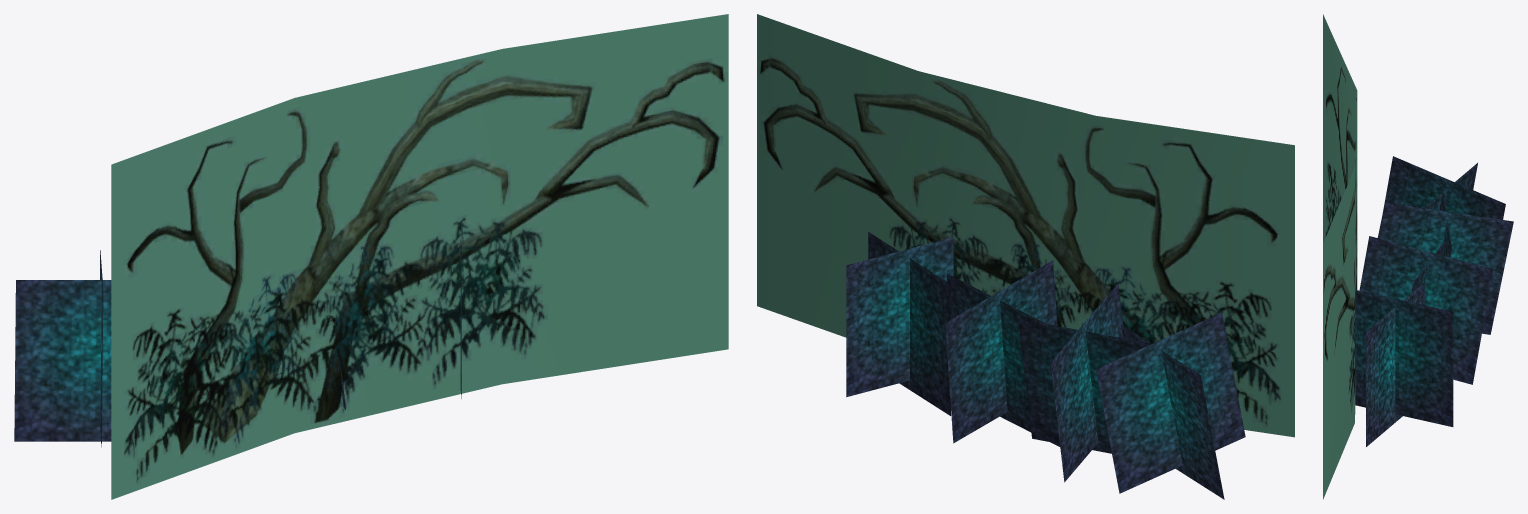
Rendered from INST_MIRK_BRIAR_TOPA.fbx.
3 views of the same model, side by side, from view 1: azimuth 30°, elevation 25°; view 2: azimuth 150°, elevation 25°; view 3: azimuth 270°, elevation 25° (orthographic). The views are drawn at different scales.
Visible parts, largest first — view 1: INST_MIRK_BRIAR_TOPA; view 2: INST_MIRK_BRIAR_TOPA; view 3: INST_MIRK_BRIAR_TOPA.
Boxes of the visible parts, box(x1,y1,x2,y2) form: INST_MIRK_BRIAR_TOPA: box(14, 14, 728, 499); INST_MIRK_BRIAR_TOPA: box(757, 14, 1294, 499); INST_MIRK_BRIAR_TOPA: box(1323, 14, 1513, 499).
Bounding box in the file's own units: 66083 × 35057 × 22867.
2 materials, 2 textured.
